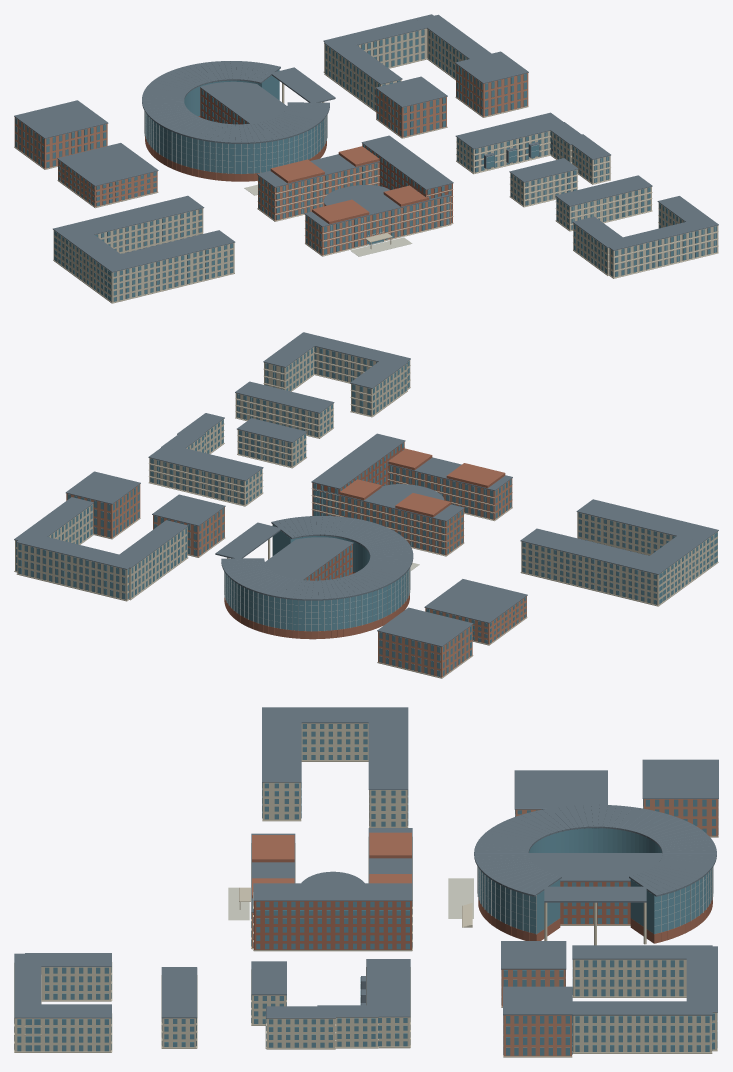
Rendered from academic.glb.
The picture shows the model from 3 angles, top to bottom: view 1: azimuth 30°, elevation 25°; view 2: azimuth 150°, elevation 25°; view 3: azimuth 270°, elevation 25°; orthographic projection. The views are drawn at different scales.
Parts seen in each view (by area): view 1: library curved shell__roof, library curved shell__glass, public-class-south__roof, public-class-south__stone, S-south-wing__brickLight, student-centre__roof, S stepped parapet__brick, public-class-north__roof, admin__roof, S-north-wing__brickLight, science-link__stone, library-reading-block__roof (+59 smaller); view 2: library curved shell__roof, library curved shell__glass, public-class-north__stone, public-class-north__roof, S stepped parapet__brick, public-class-south__roof, student-centre__roof, admin__roof, S-north-wing__brickLight, cyber-north__stone, S1__roof, cyber-north__roof (+54 smaller); view 3: library curved shell__roof, library curved shell__glass, S-east-spine__brick, cyber-east__stone, student-centre__roof, S-east-spine__glass, cyber-west__stone, admin__roof, public-class-south__roof, library-reading-block__roof, S stepped parapet__brick, S-east-spine__roof (+48 smaller).
Part boxes in pixels (x1,y1,x2,y2): library curved shell__roof: (142, 61, 329, 143); library curved shell__glass: (145, 69, 326, 173); public-class-south__roof: (96, 230, 235, 301); public-class-south__stone: (96, 243, 234, 303); S-south-wing__brickLight: (305, 196, 450, 255); student-centre__roof: (57, 143, 158, 206); S stepped parapet__brick: (270, 146, 429, 224); public-class-north__roof: (53, 195, 204, 253); admin__roof: (14, 100, 108, 168); S-north-wing__brickLight: (258, 162, 379, 220); science-link__stone: (609, 225, 718, 278); library-reading-block__roof: (200, 81, 286, 123); library curved shell__roof: (221, 516, 413, 600); library curved shell__glass: (225, 525, 408, 631); public-class-north__stone: (520, 541, 674, 606); public-class-north__roof: (520, 528, 674, 604); S stepped parapet__brick: (338, 448, 505, 517); public-class-south__roof: (576, 499, 718, 555); student-centre__roof: (424, 579, 527, 643); admin__roof: (377, 607, 473, 676); S-north-wing__brickLight: (325, 492, 463, 555); cyber-north__stone: (16, 543, 129, 601); S1__roof: (148, 447, 263, 504); cyber-north__roof: (16, 537, 139, 599); library curved shell__roof: (474, 804, 716, 896); library curved shell__glass: (478, 828, 711, 934); S-east-spine__brick: (254, 901, 411, 949); cyber-east__stone: (572, 1015, 712, 1053); student-centre__roof: (514, 770, 607, 816); S-east-spine__glass: (256, 901, 409, 949); cyber-west__stone: (572, 959, 686, 997); admin__roof: (642, 759, 718, 834); public-class-south__roof: (262, 707, 301, 818); library-reading-block__roof: (528, 853, 662, 881); S stepped parapet__brick: (252, 832, 411, 898); S-east-spine__roof: (253, 883, 412, 948).
Size of the model in its own units: 345 by 26.5 by 330.
